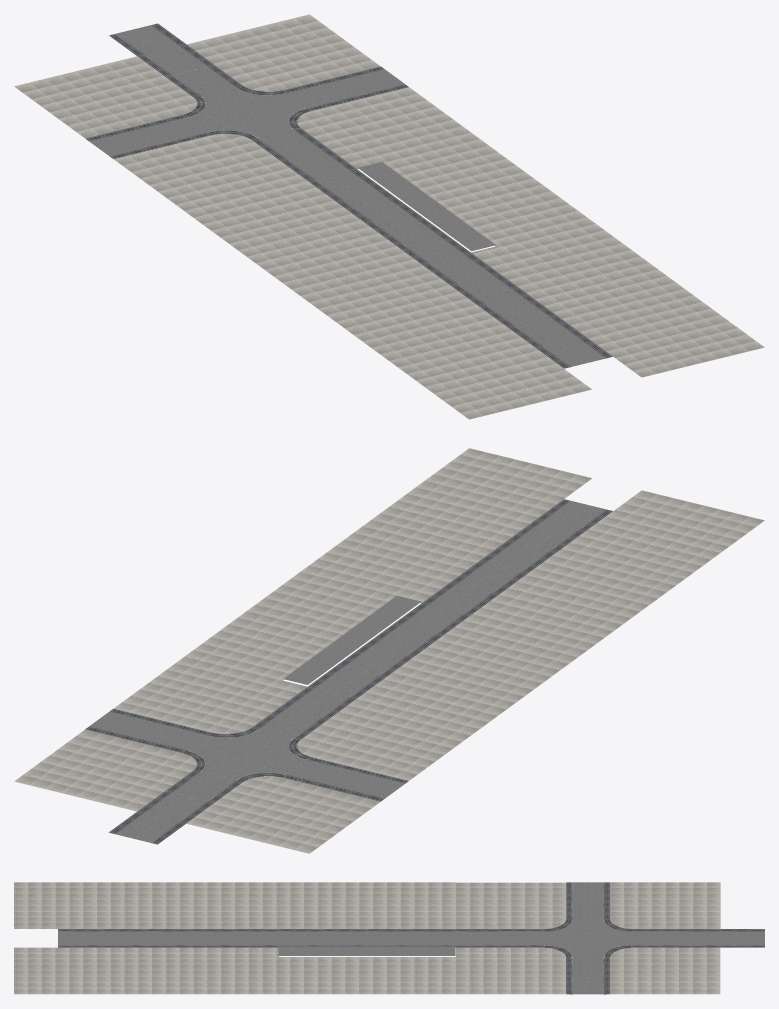
The model's file is CuadraDarsenaDerecha.glb.
3 renders of one model, top to bottom at view 1: azimuth 30°, elevation 25°; view 2: azimuth 150°, elevation 25°; view 3: azimuth 270°, elevation 25°, orthographic. The views are drawn at different scales.
Visible parts, largest first — view 1: Plane.003, Vereda, Vereda.001, Calle.001, Calle, AlcantarillasCurvas, 1.002; view 2: Plane.003, Vereda, Vereda.001, Calle.001, Calle, AlcantarillasCurvas, 1.002; view 3: Vereda, Plane.003, Vereda.001, Calle.001, Calle, AlcantarillasCurvas, 1.002.
Boxes of the visible parts, x1,y1,x2,y2 form: Plane.003: (185,181,591,419); Vereda: (14,14,479,210); Vereda.001: (384,139,764,377); Calle.001: (251,127,612,368); Calle: (85,23,408,158); AlcantarillasCurvas: (184,86,310,139); 1.002: (358,162,495,251); Plane.003: (357,490,764,728); Vereda: (14,656,479,853); Vereda.001: (185,448,592,680); Calle.001: (251,499,612,740); Calle: (85,708,408,844); AlcantarillasCurvas: (184,728,310,781); 1.002: (283,595,420,684); Vereda: (455,882,720,994); Plane.003: (14,882,455,928); Vereda.001: (14,947,455,994); Calle.001: (58,929,543,947); Calle: (566,882,764,994); AlcantarillasCurvas: (544,919,632,956); 1.002: (278,946,455,955).
Bounding box in the file's own units: 12 × 0.0586 × 34.
11 materials, 11 textured.
